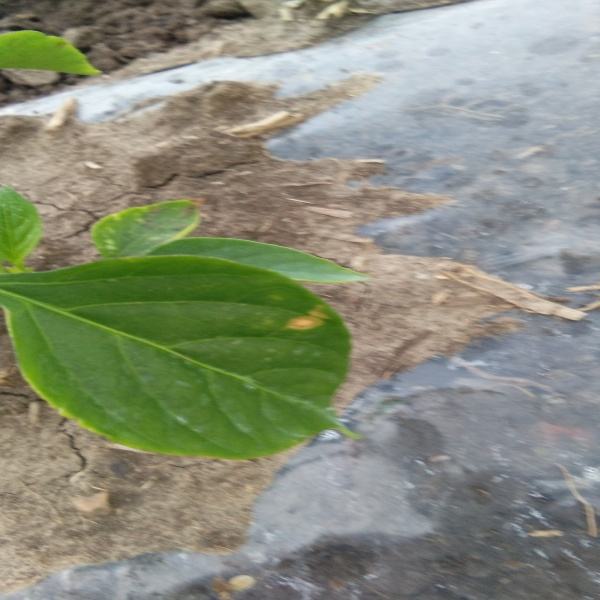Anthrax: (274, 292, 334, 346), (126, 200, 198, 235)
